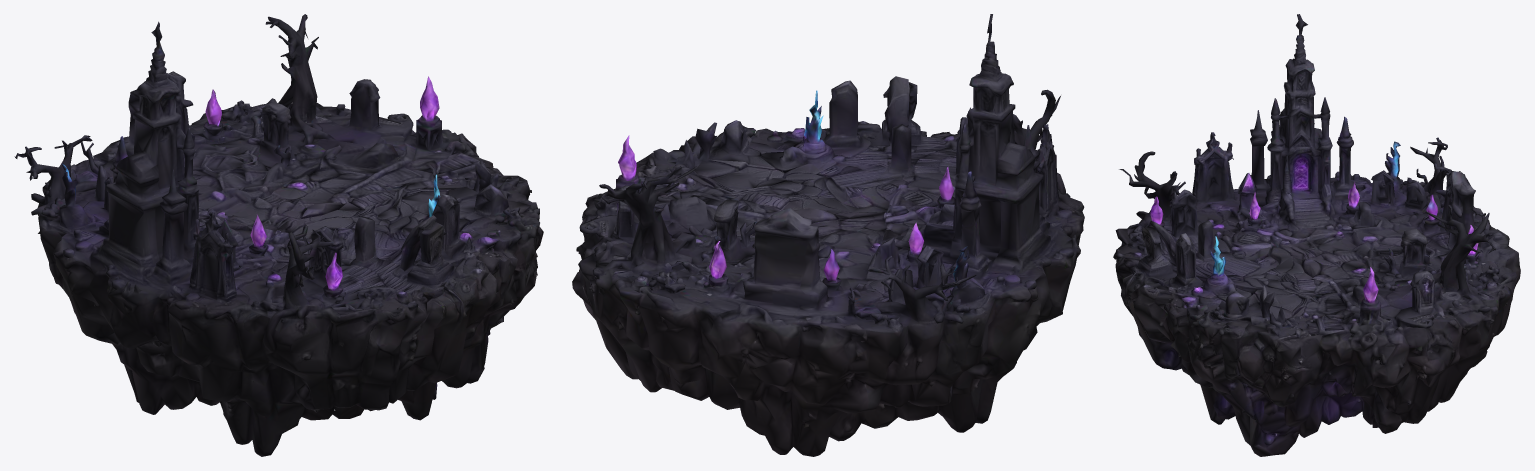
The model's file is undead-necropolis-island.glb.
3 renders of one model, left to right at view 1: azimuth 30°, elevation 25°; view 2: azimuth 150°, elevation 25°; view 3: azimuth 270°, elevation 25°, orthographic. The views are drawn at different scales.
Visible parts, largest first — view 1: tripo_node_c8812dba-a1e9-42a8-bad7-167efbd57e42; view 2: tripo_node_c8812dba-a1e9-42a8-bad7-167efbd57e42; view 3: tripo_node_c8812dba-a1e9-42a8-bad7-167efbd57e42.
Part boxes in pixels (x1,y1,x2,y2): tripo_node_c8812dba-a1e9-42a8-bad7-167efbd57e42: [14, 14, 543, 456]; tripo_node_c8812dba-a1e9-42a8-bad7-167efbd57e42: [572, 14, 1084, 456]; tripo_node_c8812dba-a1e9-42a8-bad7-167efbd57e42: [1113, 14, 1520, 456].
Bounding box in the file's own units: 0.9605 × 0.8771 × 0.9796.
1 material, 1 textured.
